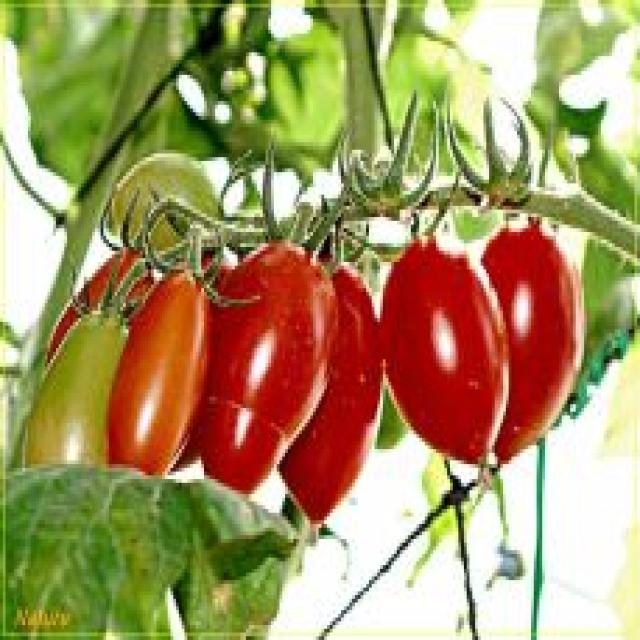level 2: (94, 143, 226, 240)
level 3: (20, 293, 128, 493)
level 5: (113, 252, 220, 500)
level 6: (202, 234, 340, 514), (271, 246, 396, 550), (381, 226, 521, 481), (472, 209, 580, 456), (180, 224, 250, 494), (44, 238, 158, 362)
